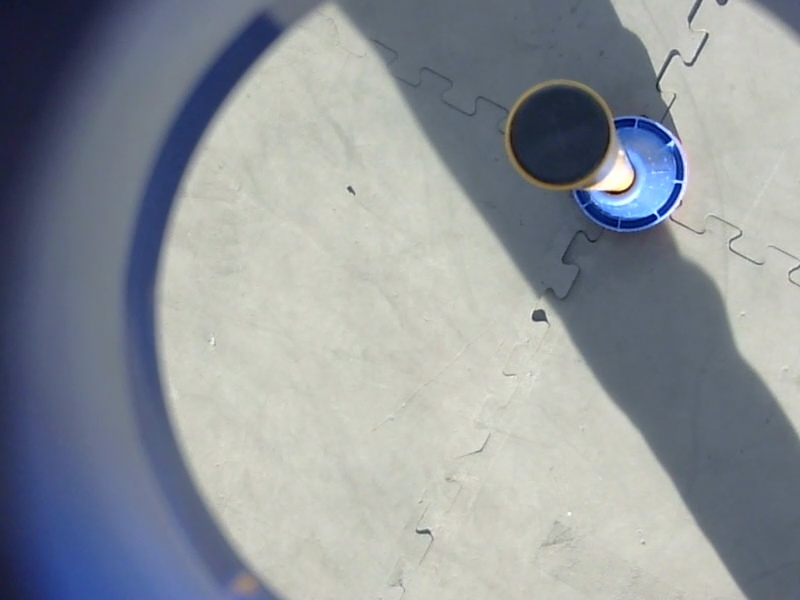tip: (496, 73, 620, 200)
